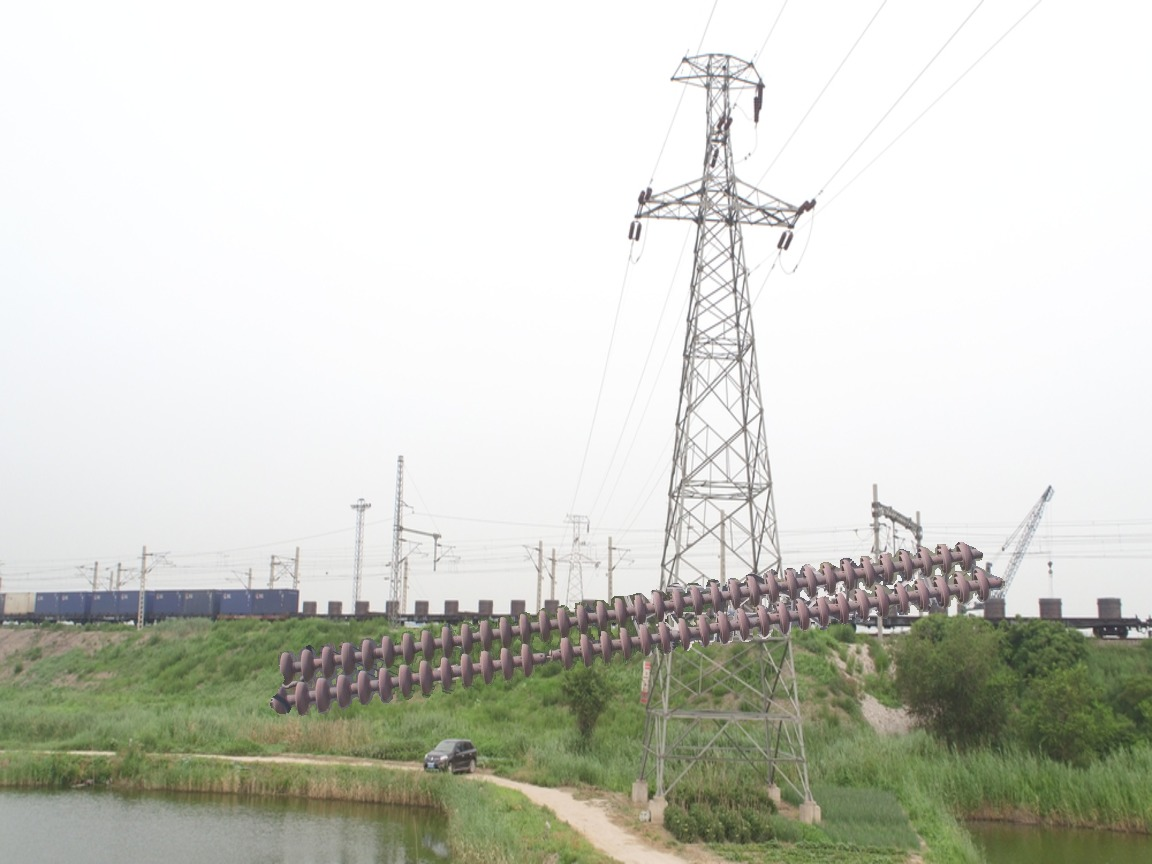defect: (513, 634, 578, 682)
